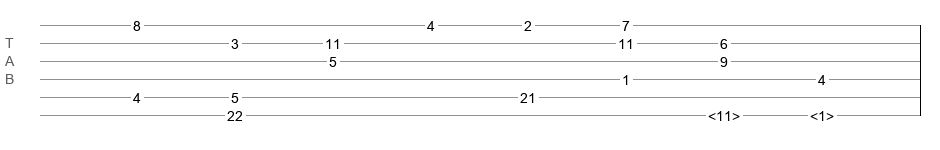1: (622, 72, 630, 82)
11: (325, 36, 341, 46), (618, 36, 634, 46)
2: (524, 18, 532, 28)
21: (520, 90, 536, 100)
22: (227, 108, 243, 118)
3: (231, 36, 239, 46)
4: (133, 90, 141, 100), (427, 18, 435, 28), (818, 72, 826, 82)
5: (231, 90, 239, 100), (329, 54, 337, 64)
6: (720, 36, 728, 46)
7: (622, 18, 630, 28)
8: (133, 18, 141, 28)
9: (720, 54, 728, 64)
harmonic: (708, 108, 740, 118), (810, 108, 834, 118)
